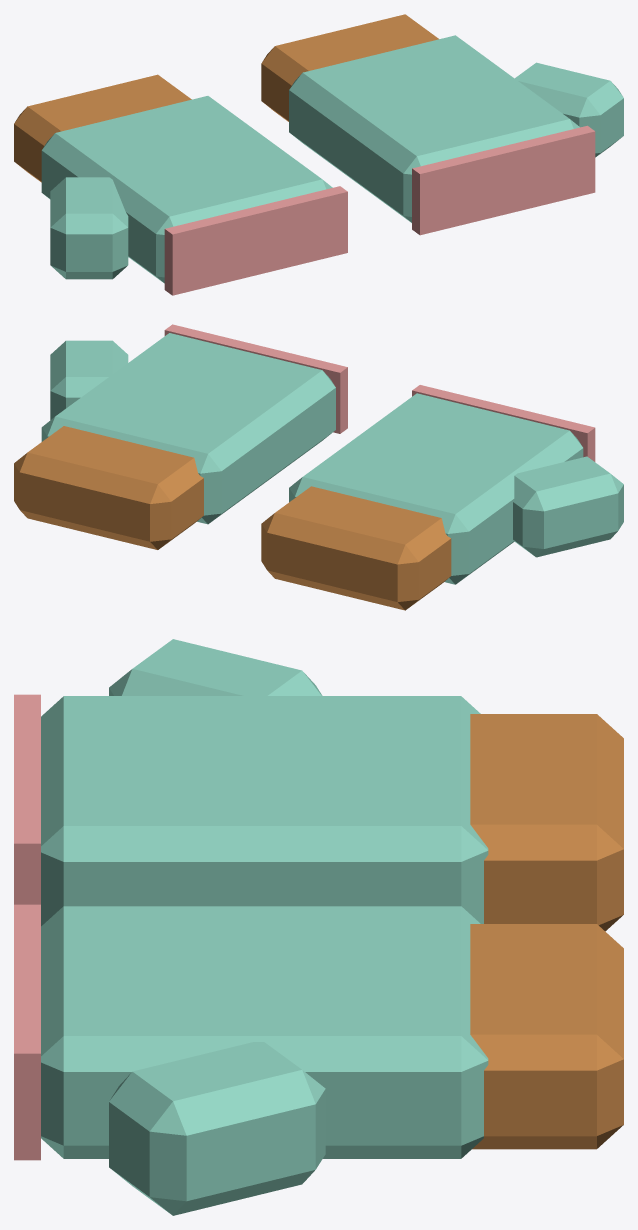
Rendered from CatCafe_Item_Gloves.glb.
3 renders of one model, top to bottom at view 1: azimuth 30°, elevation 25°; view 2: azimuth 150°, elevation 25°; view 3: azimuth 270°, elevation 25°, orthographic. The views are drawn at different scales.
Parts seen in each view (by area): view 1: CatCafe_Item_Gloves; view 2: CatCafe_Item_Gloves; view 3: CatCafe_Item_Gloves.
Part boxes in pixels (bbox=[...]): CatCafe_Item_Gloves: bbox=[14, 14, 623, 295]; CatCafe_Item_Gloves: bbox=[14, 324, 623, 610]; CatCafe_Item_Gloves: bbox=[14, 639, 623, 1215].
Size of the model in its own units: 2.52 by 0.3 by 1.35.
1 material, 1 textured.
